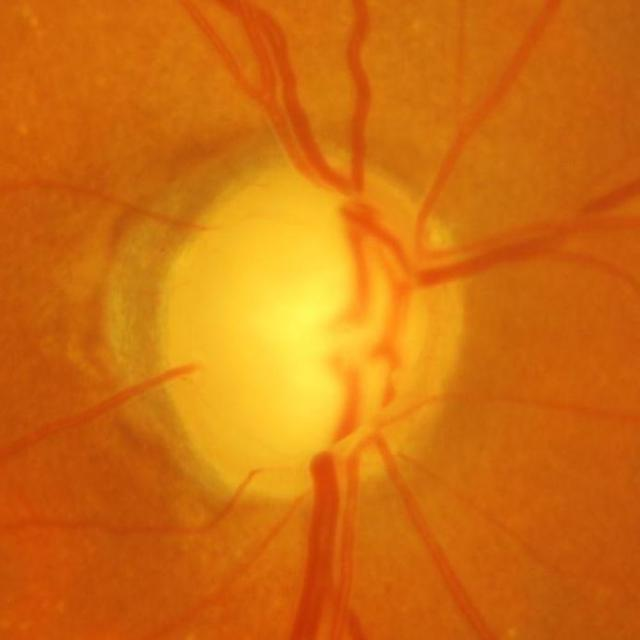OC: (262, 257, 435, 427)
OD: (152, 154, 458, 505)
